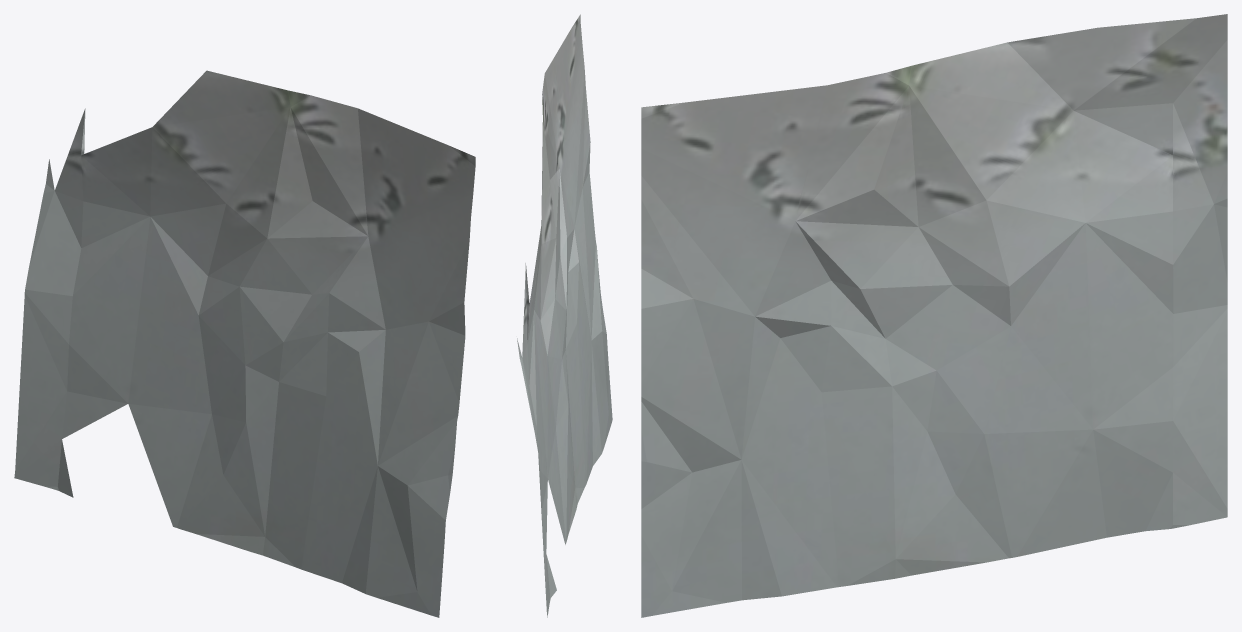
3 renders of one model, left to right at view 1: azimuth 30°, elevation 25°; view 2: azimuth 150°, elevation 25°; view 3: azimuth 270°, elevation 25°, orthographic. The views are drawn at different scales.
Bounding box in the file's own units: 0.8208 × 1.67 × 1.67.
3 materials, 3 textured.
